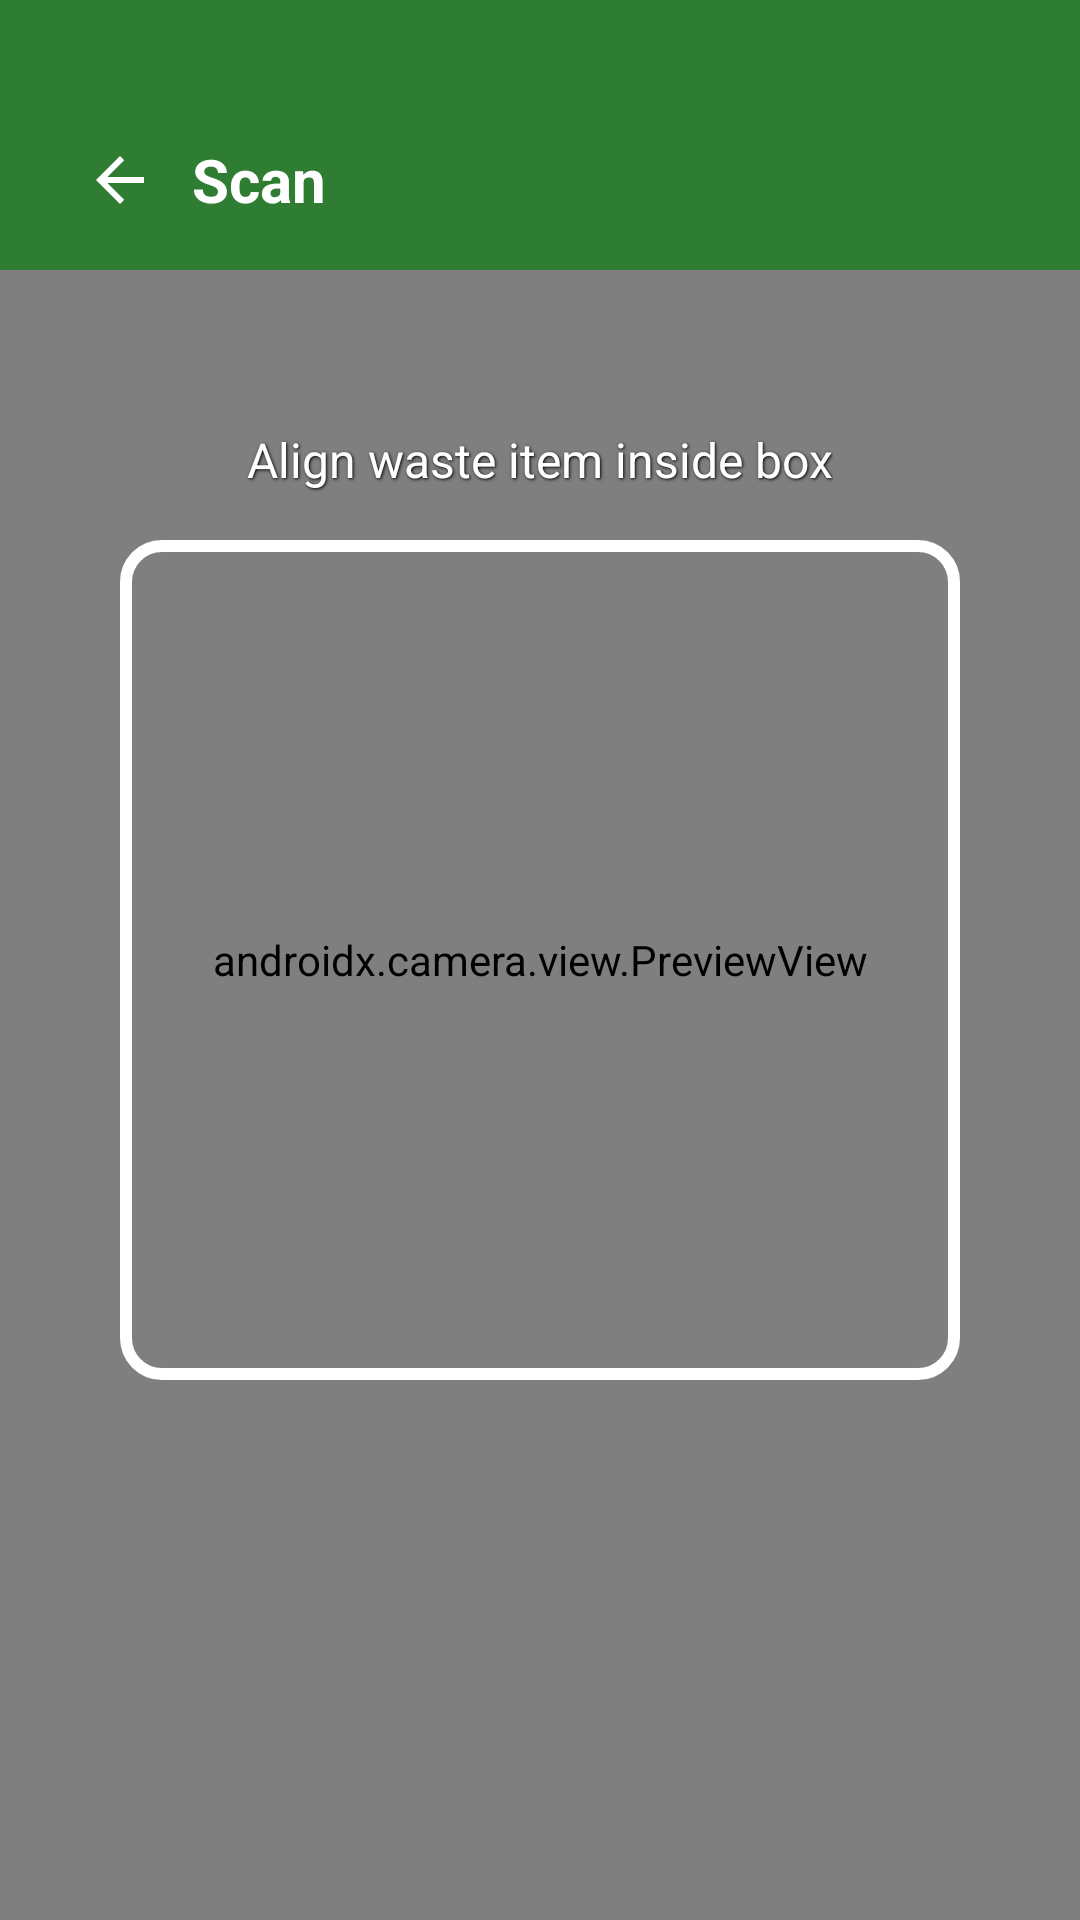

Point at icon controls on the screen. Image size 1080 × 1920, points as [x,y].
Go Back: [120,180]
